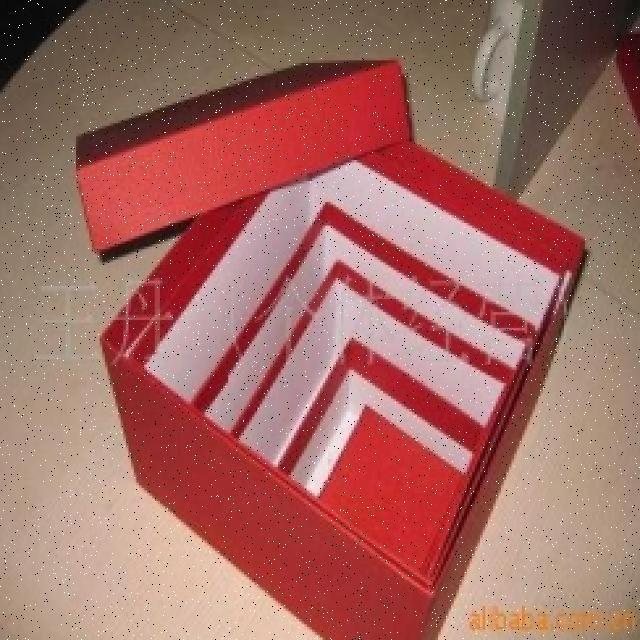box: (73, 57, 579, 640)
